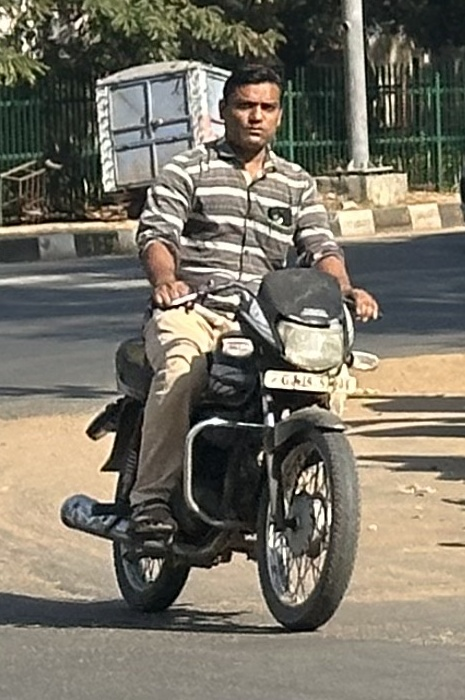BikeWithRider: (56, 62, 384, 641)
NoHelmet: (217, 63, 285, 153)
